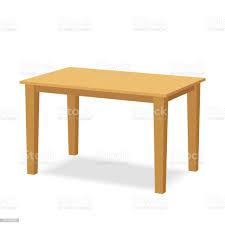desk: (15, 43, 207, 204)
